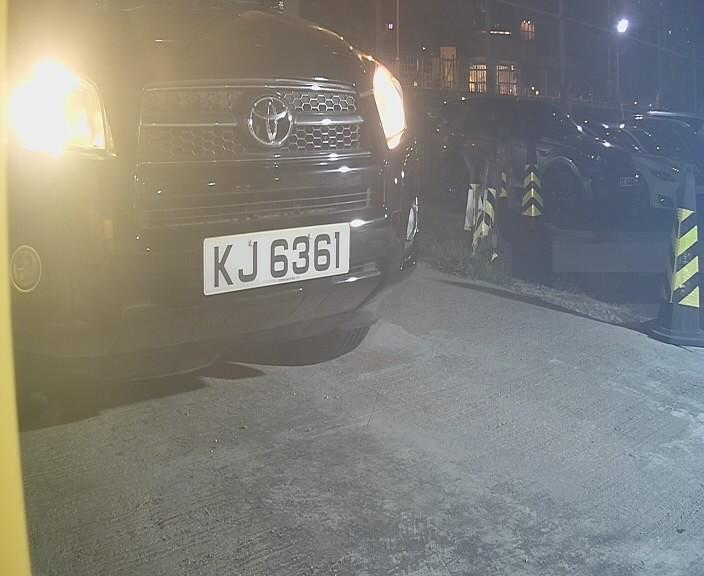License Plate: (189, 214, 368, 296)
